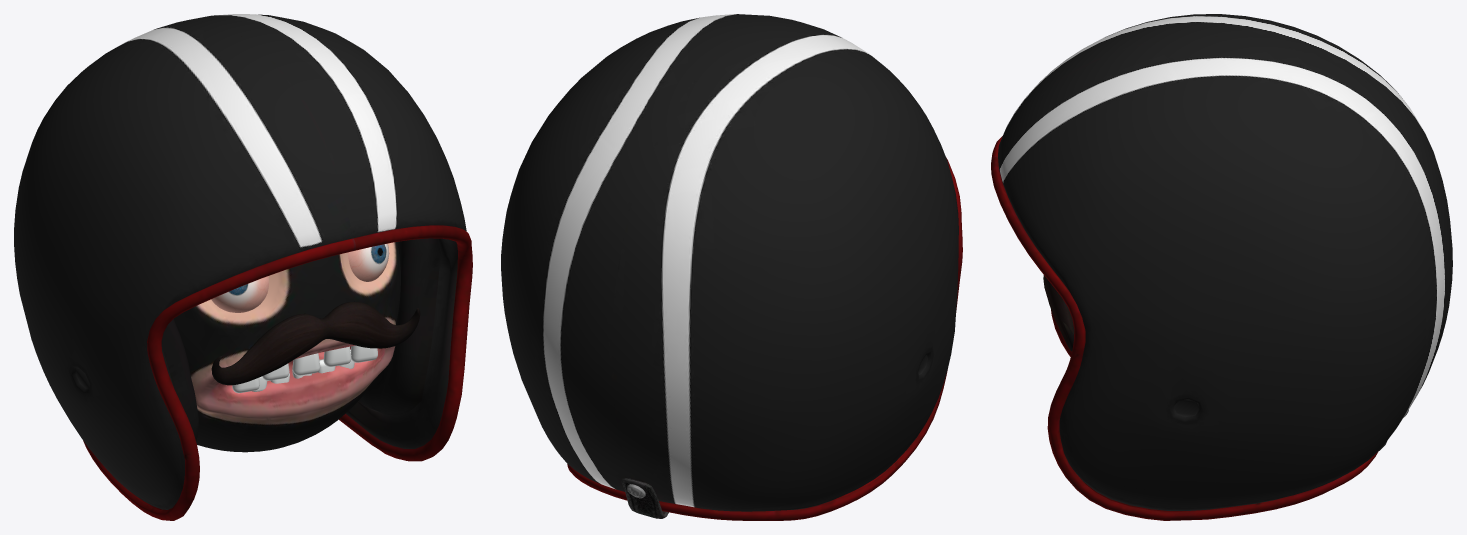
The model's file is capacete-transformed.glb.
The picture shows the model from 3 angles, left to right: view 1: azimuth 30°, elevation 25°; view 2: azimuth 150°, elevation 25°; view 3: azimuth 270°, elevation 25°; orthographic projection.
Parts seen in each view (by area): view 1: helmet, Cube_Material.004_0, bigode, Sphere.001_Material.001_0, Cube.001_Material.002_0; view 2: helmet; view 3: helmet, bigode.
Part boxes in pixels (box(x1,y1,x2,y2)): helmet: box(14, 14, 472, 520); Cube_Material.004_0: box(174, 242, 400, 452); bigode: box(211, 301, 420, 385); Sphere.001_Material.001_0: box(211, 243, 389, 312); Cube.001_Material.002_0: box(232, 345, 377, 393); helmet: box(501, 14, 962, 520); helmet: box(991, 14, 1452, 520); bigode: box(1043, 275, 1074, 351).
Size of the model in its own units: 0.3382 by 0.3763 by 0.3698.
Materials: 5 (5 with a texture image).
